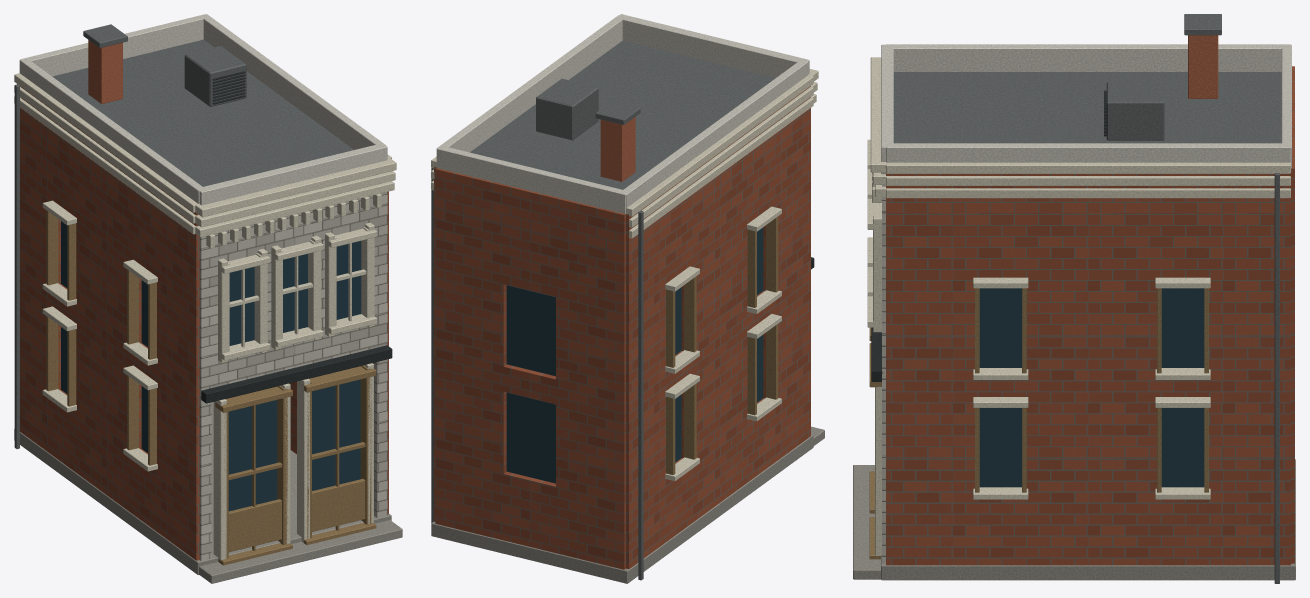
Rendered from CLSTGA13_lod1.glb.
3 renders of one model, left to right at view 1: azimuth 30°, elevation 25°; view 2: azimuth 150°, elevation 25°; view 3: azimuth 270°, elevation 25°, orthographic. The views are drawn at different scales.
Parts seen in each view (by area): view 1: CLSTGA13_LOD1; view 2: CLSTGA13_LOD1; view 3: CLSTGA13_LOD1.
Boxes of the visible parts, x1=… form: CLSTGA13_LOD1: x1=14, y1=14, x2=402, y2=583; CLSTGA13_LOD1: x1=431, y1=14, x2=824, y2=583; CLSTGA13_LOD1: x1=853, y1=14, x2=1295, y2=583.
Size of the model in its own units: 4.11 by 7.85 by 6.57.
11 materials, 9 textured.
